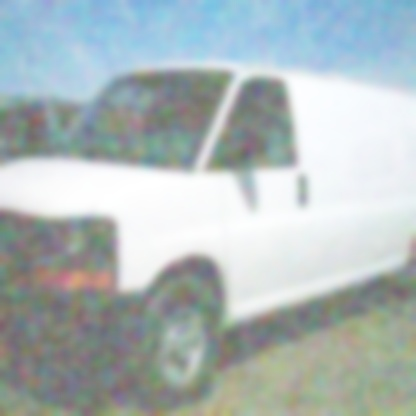Vehicle: (1, 64, 414, 413)
